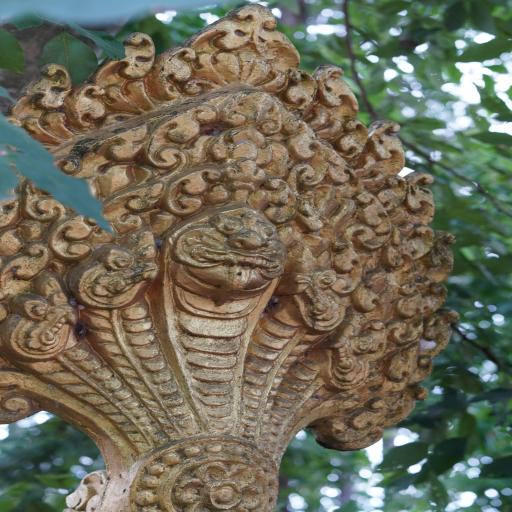ran: (0, 2, 462, 512)
